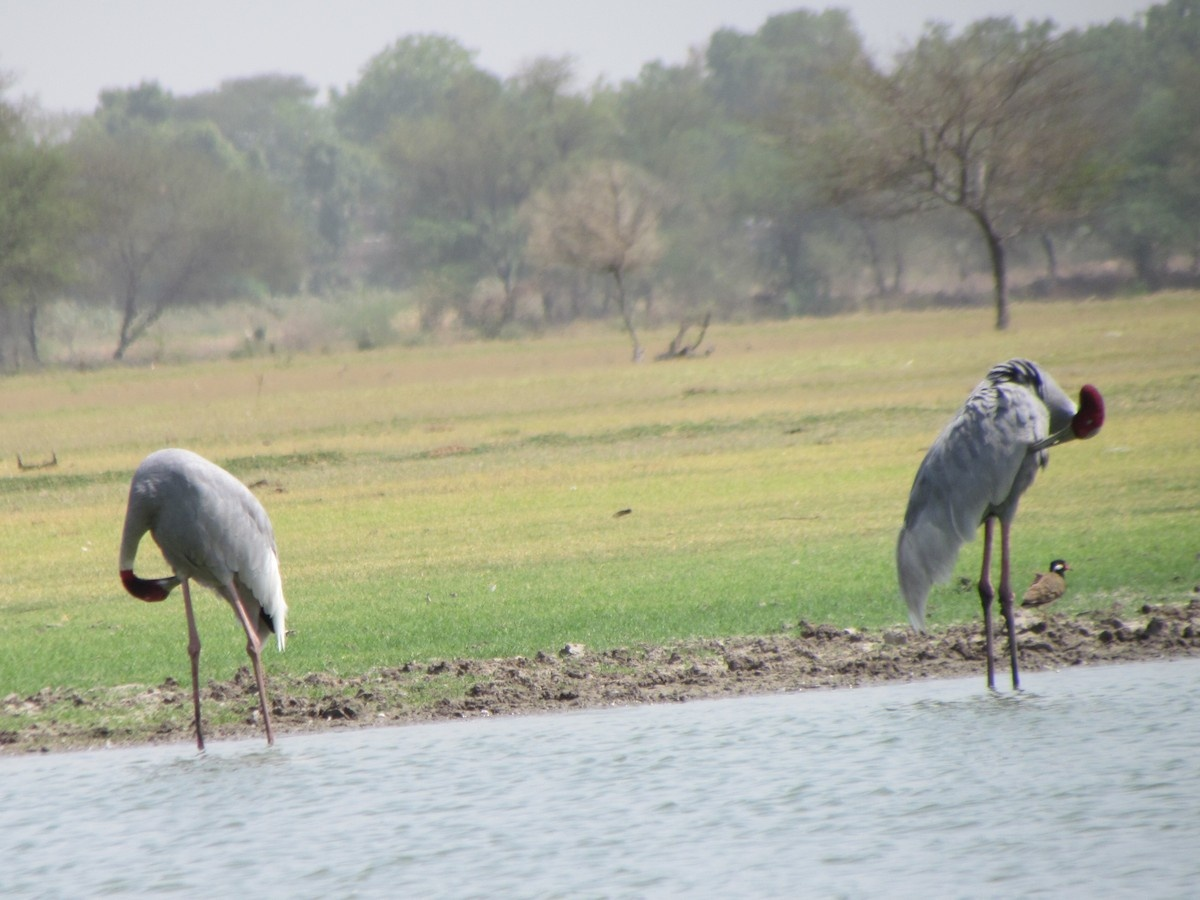crane: (882, 353, 1112, 687), (113, 440, 296, 755)
